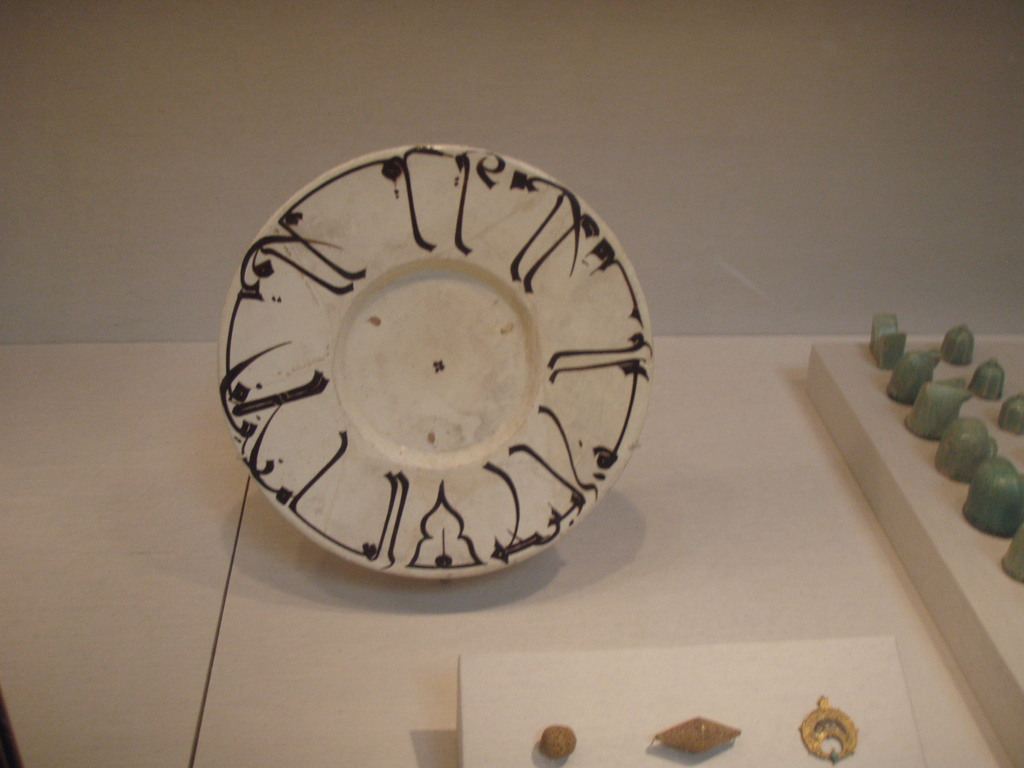plate: (202, 139, 652, 579)
